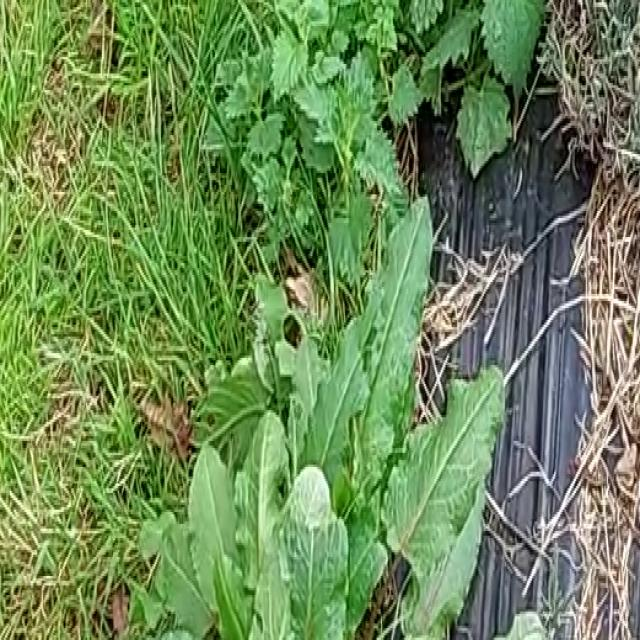organic waste: (97, 239, 499, 640)
